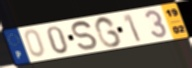0: (23, 28, 48, 60), (45, 25, 70, 55)
1: (123, 12, 143, 43)
3: (144, 9, 168, 41)
G: (93, 15, 124, 49)
S: (71, 20, 99, 52)
